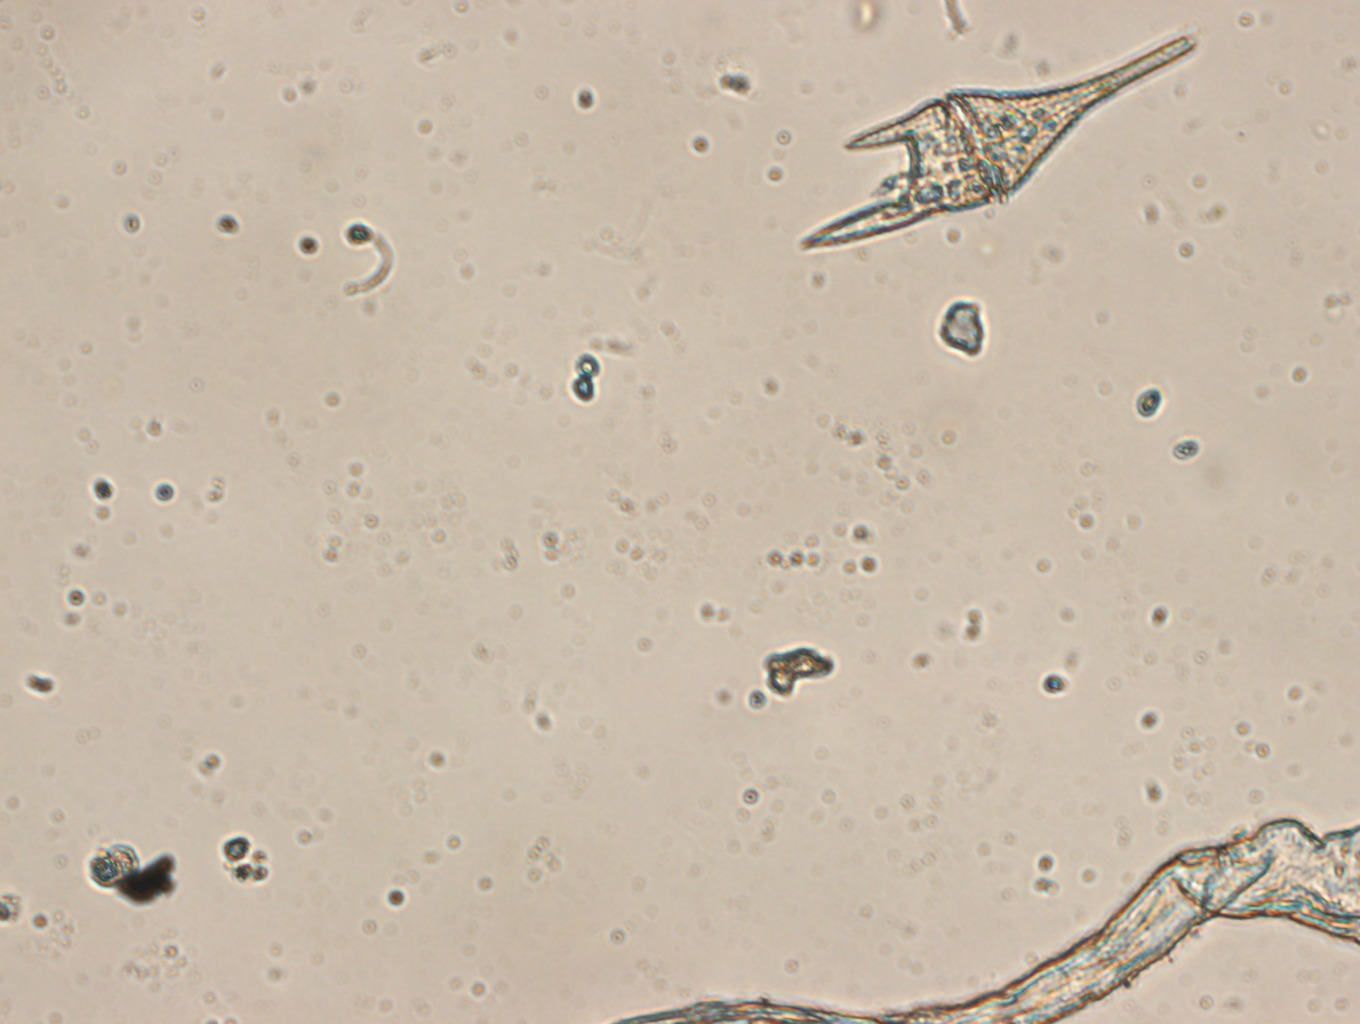ceratium furca: (784, 18, 1203, 256)
